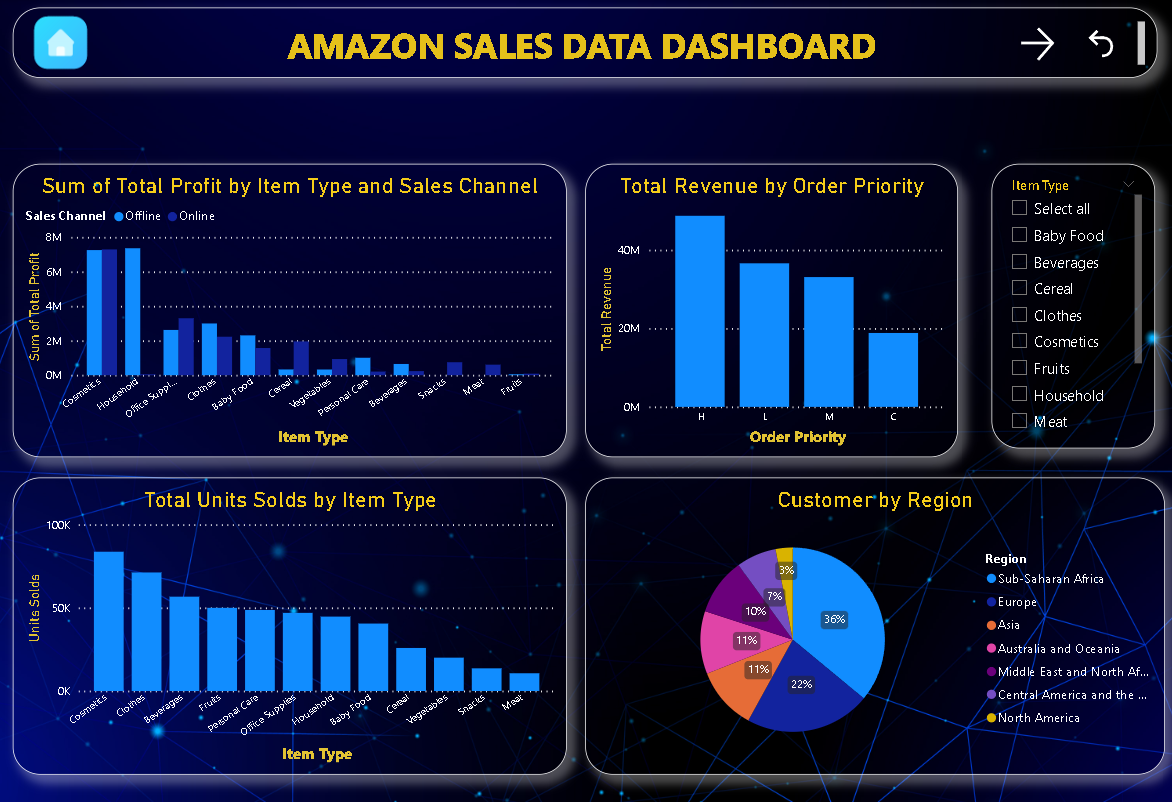

This screenshot's page, from the dashboard's own definition file:
{"tool":"powerbi","page":{"name":"Customer Analysis","canvas":[1280,879],"ordinal":2},"visuals":[{"type":"textbox","box":[15.6,8.5,1247.6,76.7],"z":0},{"type":"columnChart","fields":{"Category":["Amazon Sales data.Order Priority"],"Y":["Sum(Amazon Sales data.Total Revenue)"]},"box":[639.1,178.5,406.1,320.3],"z":1000},{"type":"columnChart","title":"Total Units Solds by Item Type","fields":{"Category":["Amazon Sales data.Item Type"],"Y":["Sum(Amazon Sales data.Units Sold)"]},"box":[15.6,520.1,603.9,324],"z":2000},{"type":"clusteredColumnChart","fields":{"Series":["Amazon Sales data.Sales Channel"],"Category":["Amazon Sales data.Item Type"],"Y":["Sum(Amazon Sales data.Total Profit)"]},"box":[15,178.5,603.7,320.3],"z":3000},{"type":"pieChart","title":"Customer by Region","fields":{"Category":["Amazon Sales data.Region"],"Y":["CountNonNull(Amazon Sales data.Order ID)"]},"box":[639,520,632,324],"z":4000},{"type":"actionButton","box":[1181.4,27.1,48.6,40],"z":5000},{"type":"actionButton","box":[1108.6,24.3,64.3,47.1],"z":6000},{"type":"image","box":[30,7.1,74.3,78.6],"z":7000},{"type":"slicer","fields":{"Values":["Amazon Sales data.Item Type"]},"box":[1082.1,178.5,178.5,310.7],"z":8000}]}

Visuals, with their boxes in screenshot pixels (x1, y1, x2, y2), scaled from the page's 1280x879 canvas onto the 1172x802 screenshot:
textbox: Rect(14, 8, 1157, 78)
columnChart - Amazon Sales data.Order Priority x Sum(Amazon Sales data.Total Revenue): Rect(585, 163, 957, 455)
"Total Units Solds by Item Type" columnChart: Rect(14, 475, 567, 770)
clusteredColumnChart - Amazon Sales data.Sales Channel x Amazon Sales data.Item Type: Rect(14, 163, 566, 455)
"Customer by Region" pieChart: Rect(585, 474, 1164, 770)
actionButton: Rect(1082, 25, 1126, 61)
actionButton: Rect(1015, 22, 1074, 65)
image: Rect(27, 6, 95, 78)
slicer - Amazon Sales data.Item Type: Rect(991, 163, 1154, 446)
